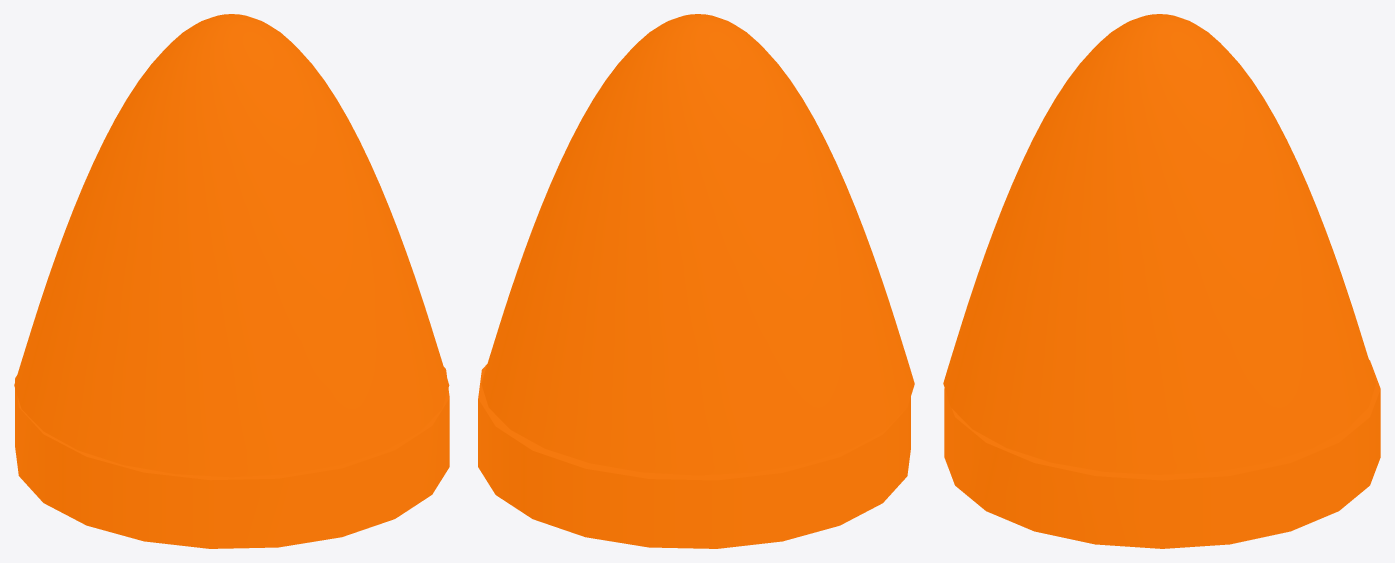
File: BulletStaticMesh.FBX
3 renders of one model, left to right at view 1: azimuth 30°, elevation 25°; view 2: azimuth 150°, elevation 25°; view 3: azimuth 270°, elevation 25°, orthographic.
Parts seen in each view (by area): view 1: bulletonly; view 2: bulletonly; view 3: bulletonly.
Part boxes in pixels (bbox=[...]): bulletonly: bbox=[14, 14, 449, 548]; bulletonly: bbox=[478, 14, 914, 548]; bulletonly: bbox=[943, 14, 1380, 548].
Size of what is drawn, in the model's own units: 137 by 137 by 151.
